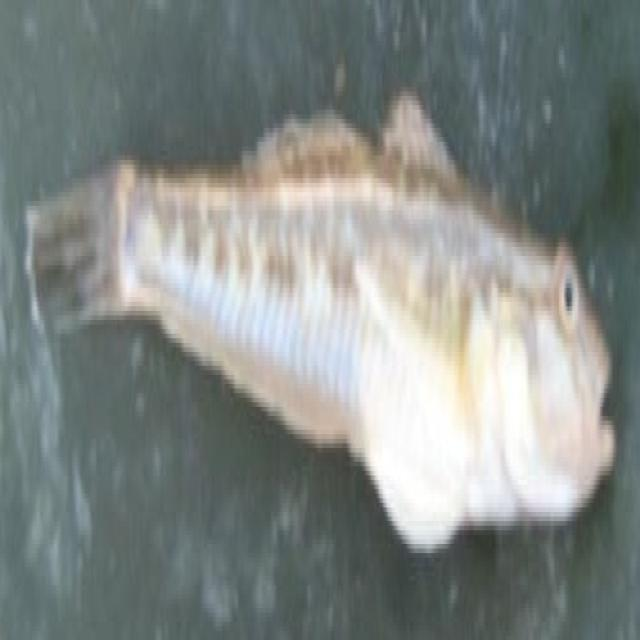Goby: (4, 0, 623, 594)
